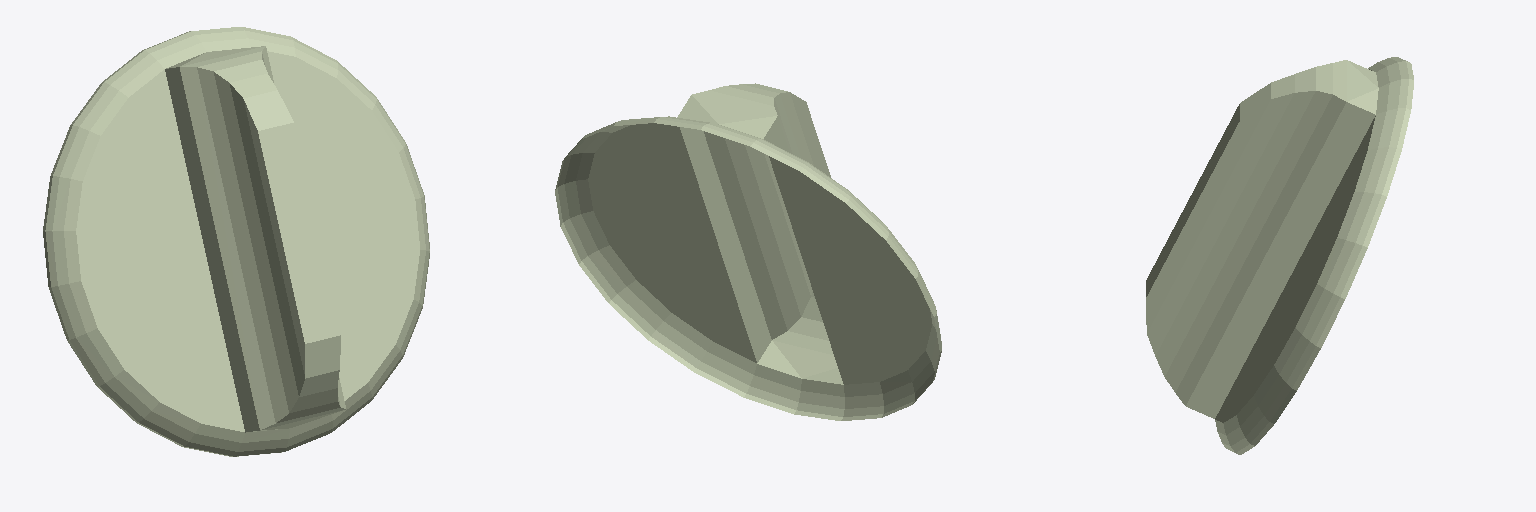
Rendered from original-56.obj.
The picture shows the model from 3 angles: view 1: azimuth 30°, elevation 25°; view 2: azimuth 150°, elevation 25°; view 3: azimuth 270°, elevation 25°; orthographic projection.
Visible parts, largest first — view 1: #ID326; view 2: #ID326; view 3: #ID326.
Boxes of the visible parts, box(x1,y1,x2,y2) form: #ID326: box(43, 27, 429, 456); #ID326: box(555, 83, 941, 420); #ID326: box(1146, 57, 1413, 454).
Bounding box in the file's own units: 0.036 × 0.0327 × 0.0224.